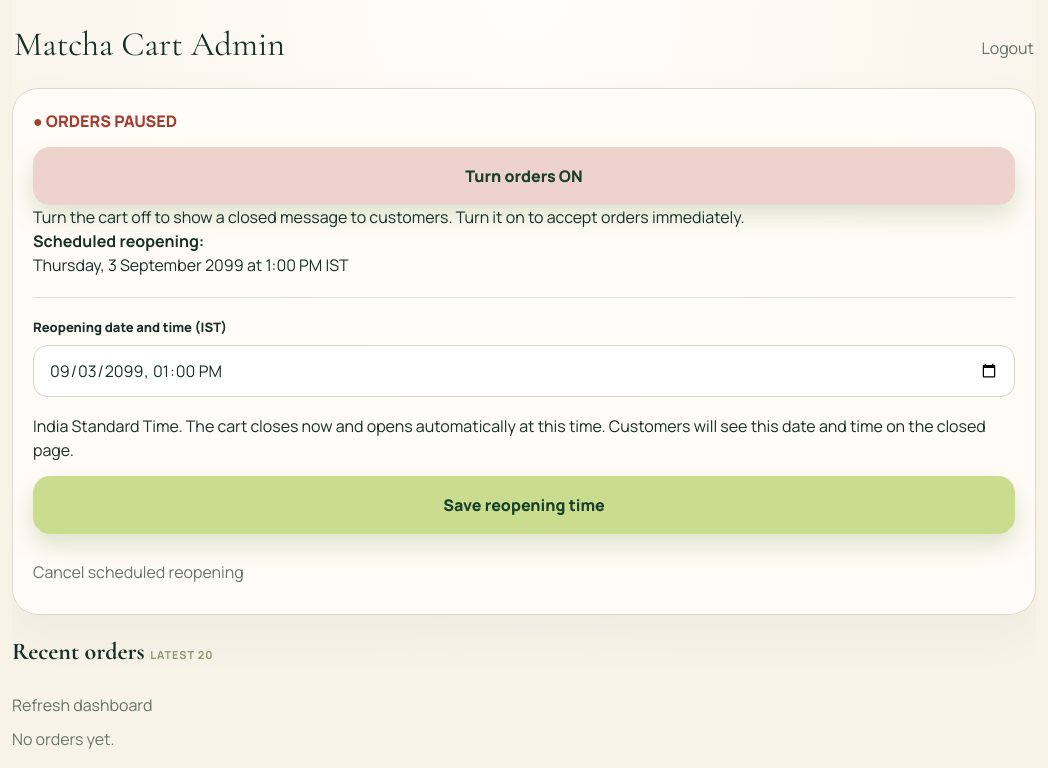
admin dashboard › cancels a schedule while keeping the cart closed
Click the button "Cancel scheduled reopening".
click(138, 572)  # box [33, 550, 244, 594]
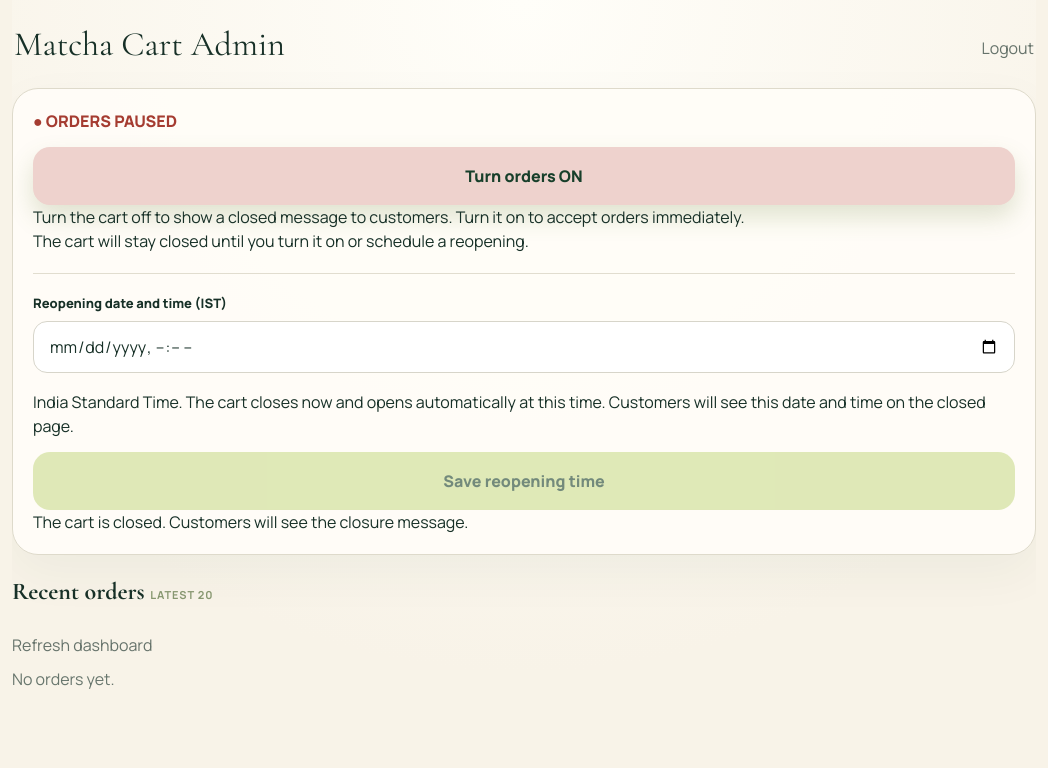
Now the text "The cart will stay closed until you turn it on or schedule a reopening." is shown, box [33, 230, 529, 252]
